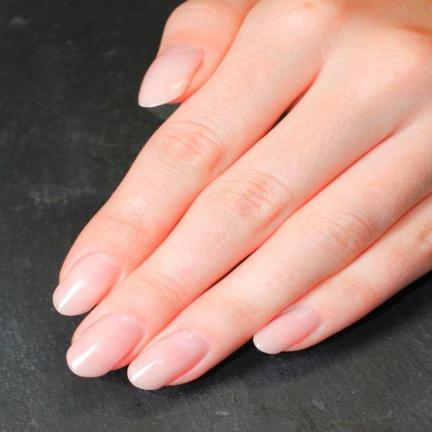Nail: (66, 312, 144, 377), (128, 328, 209, 390), (52, 253, 121, 316), (138, 44, 202, 107), (253, 308, 321, 354)
